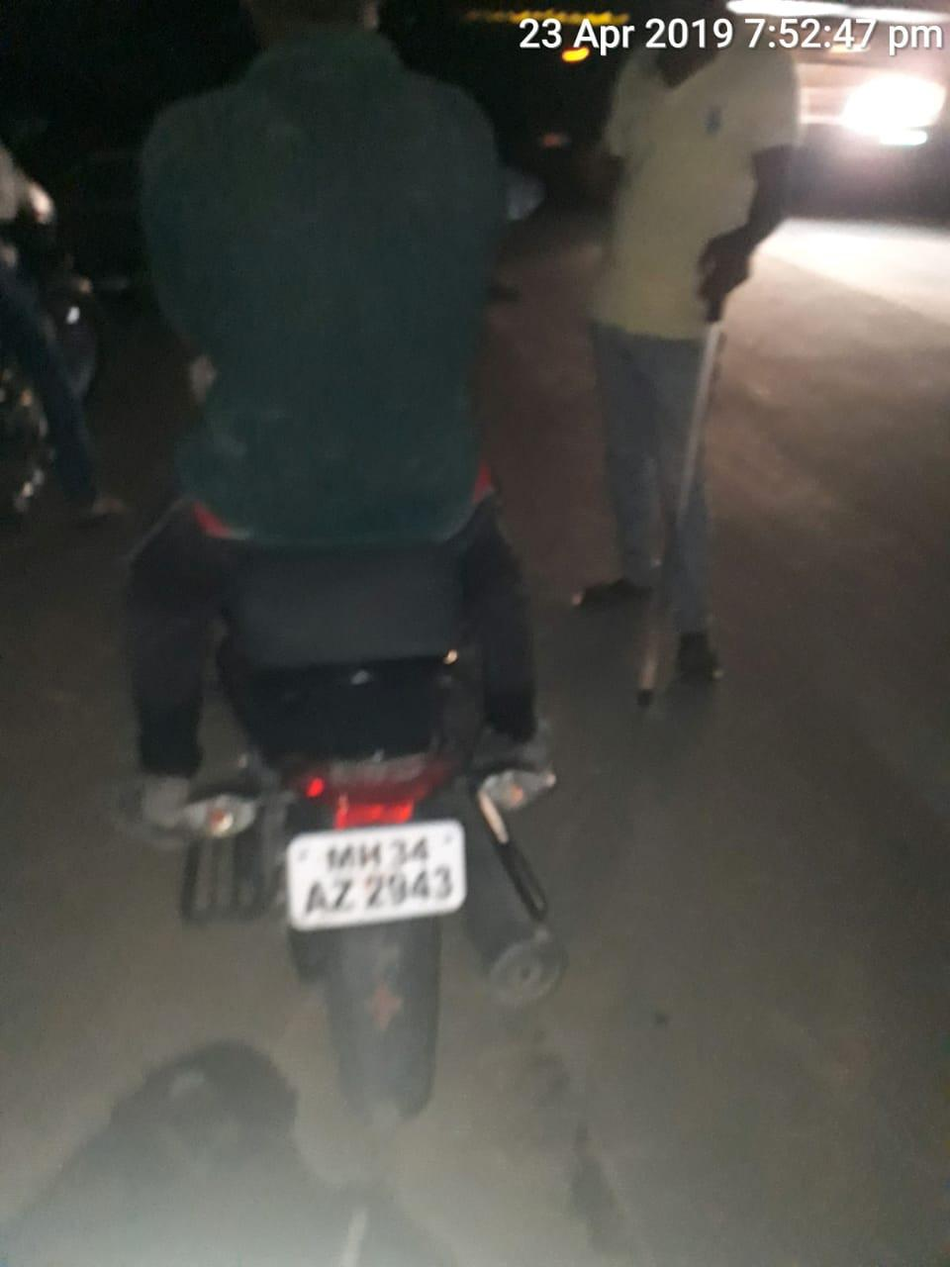plate: (261, 805, 479, 946)
